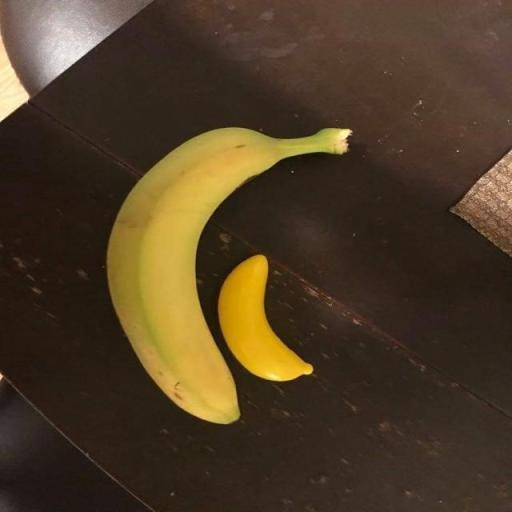fruit: (106, 156, 337, 508), (40, 119, 184, 487)
